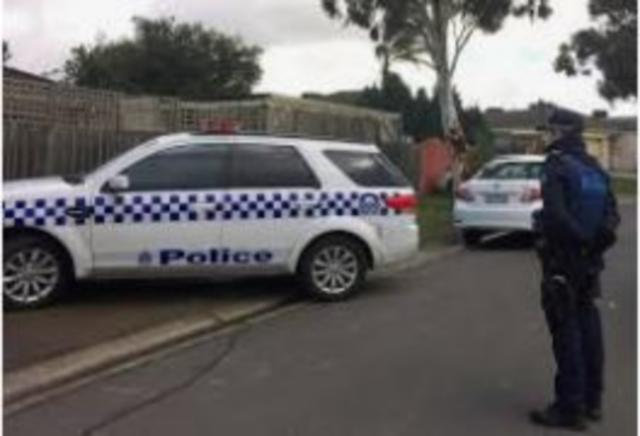police_car: (2, 119, 422, 308)
